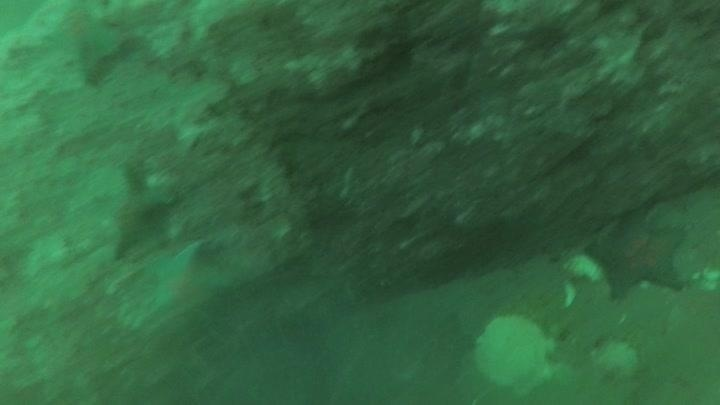scallop: (471, 312, 557, 393), (590, 335, 642, 382)
starfish: (586, 211, 693, 302), (94, 159, 176, 262), (143, 238, 230, 323), (33, 2, 125, 81)
